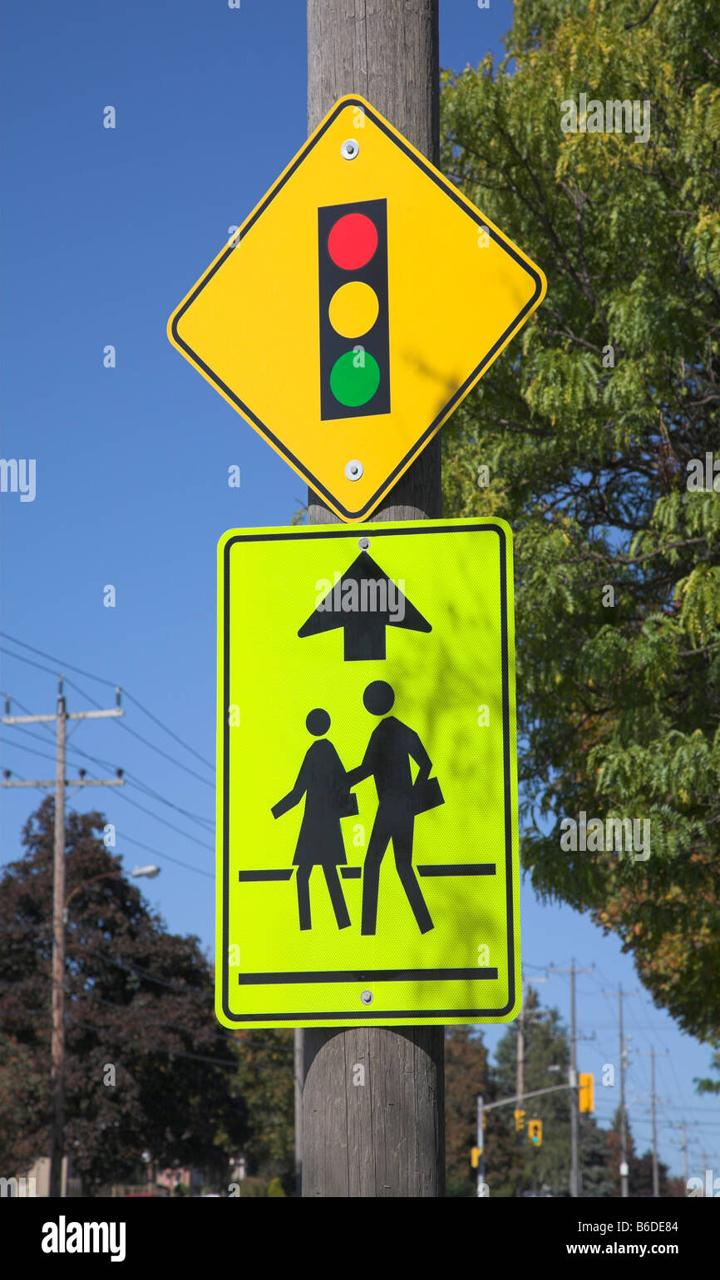Traffic sign: (179, 521, 538, 1049), (139, 89, 559, 516)
